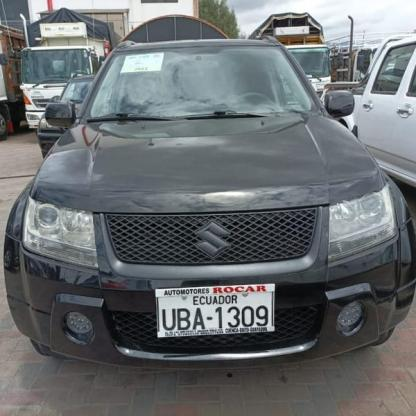Placa: (154, 287, 274, 331)
